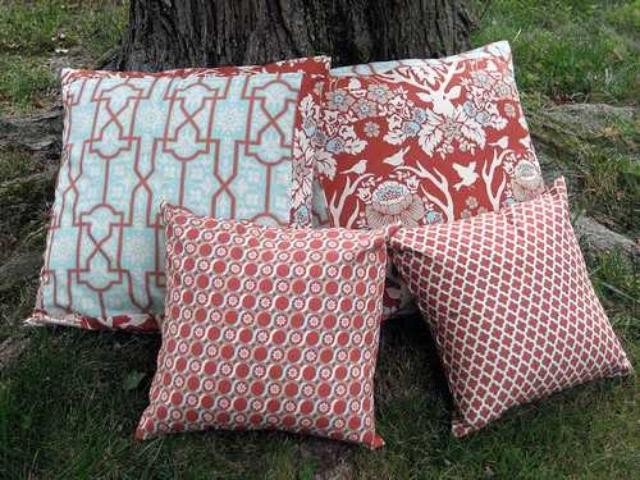pillow: (23, 54, 330, 334), (288, 39, 546, 321), (386, 175, 634, 439), (134, 198, 392, 450)
